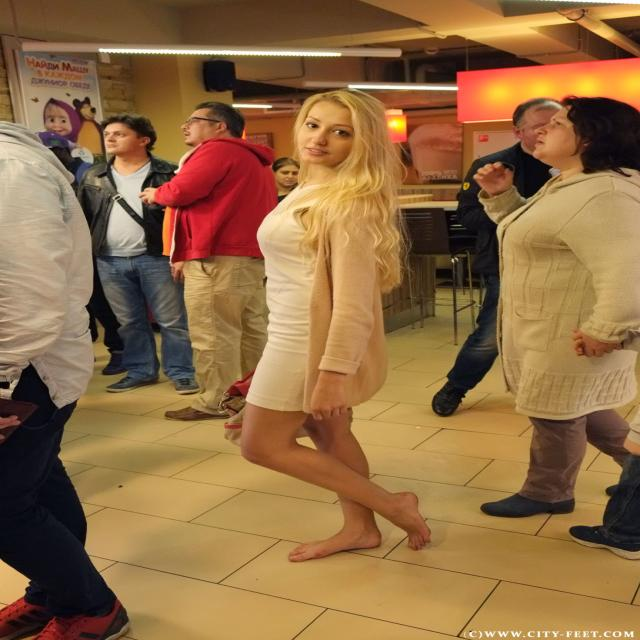Barefoots: (288, 530, 382, 562), (394, 492, 432, 550)
